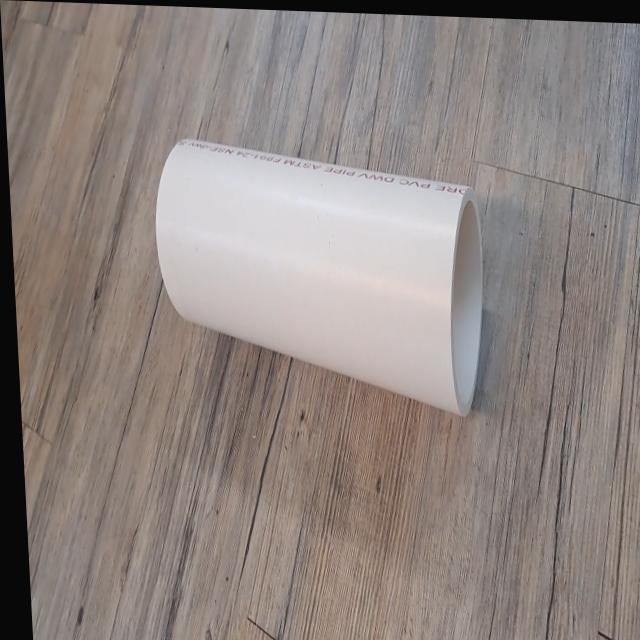CORAL: (146, 129, 495, 433)
